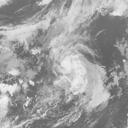cyclone: (47, 44, 104, 107)
